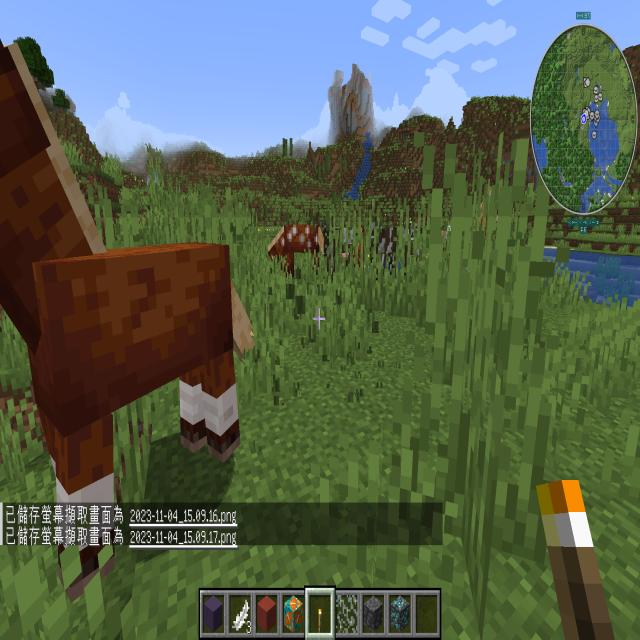cow: (374, 216, 422, 282), (320, 216, 354, 284)
